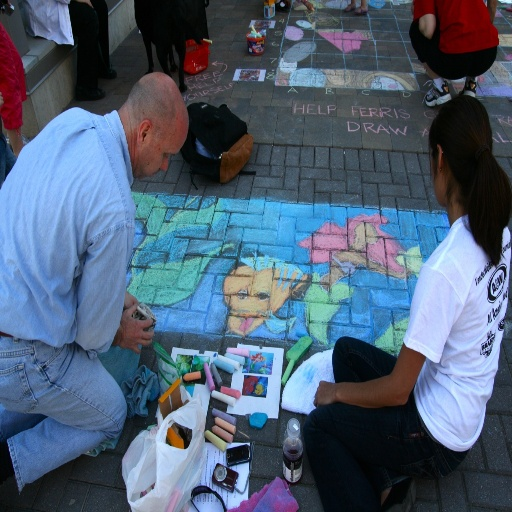hand: (110, 298, 152, 360), (312, 378, 338, 408), (122, 288, 140, 311)
